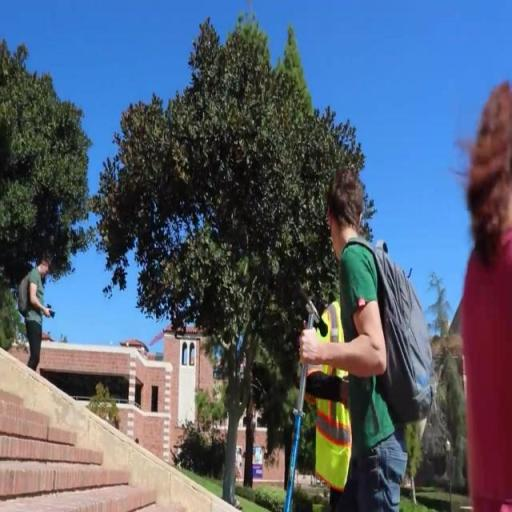vest: (305, 276, 391, 492), (16, 268, 48, 327)
